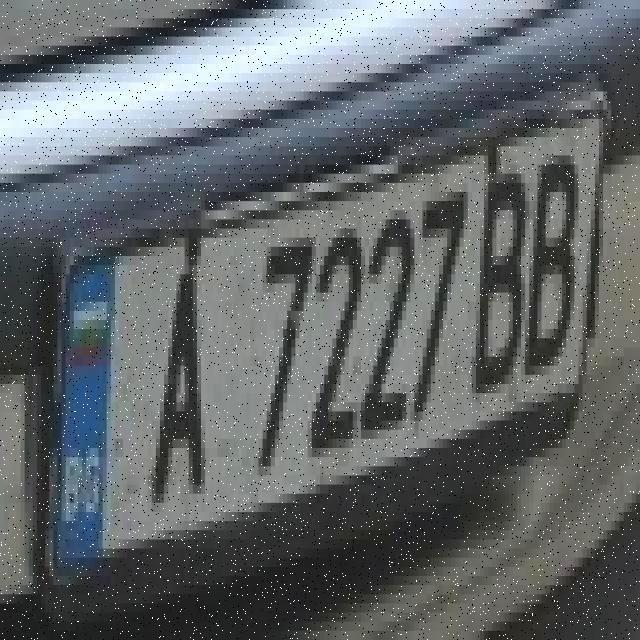LicensePlate: (48, 64, 615, 612)
